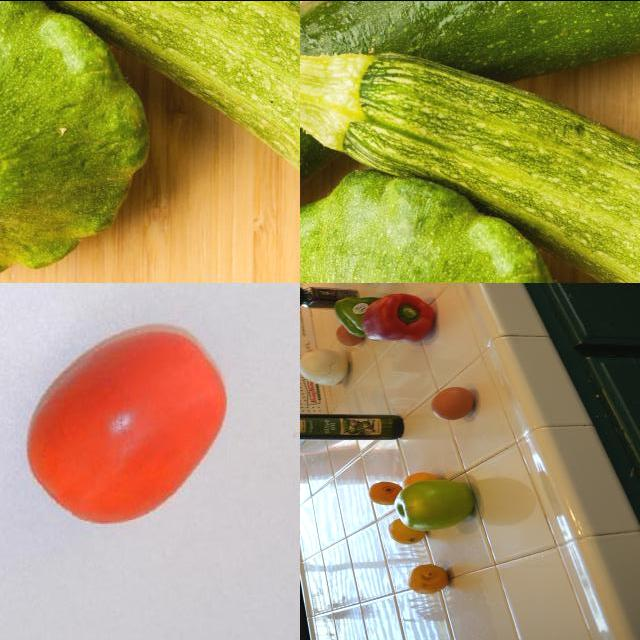bell_pepper: (368, 288, 435, 346), (337, 292, 379, 338), (301, 286, 356, 311)
egg: (430, 383, 478, 425), (326, 324, 361, 344)
onion: (301, 346, 349, 391)
tomato: (5, 296, 248, 537)
zucchini: (301, 1, 640, 120)
